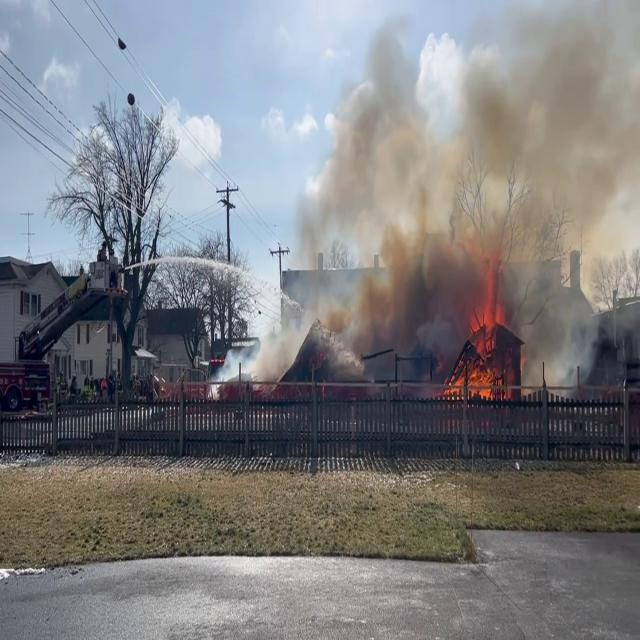Fire: (444, 266, 510, 407)
Smoke: (232, 8, 640, 390)
